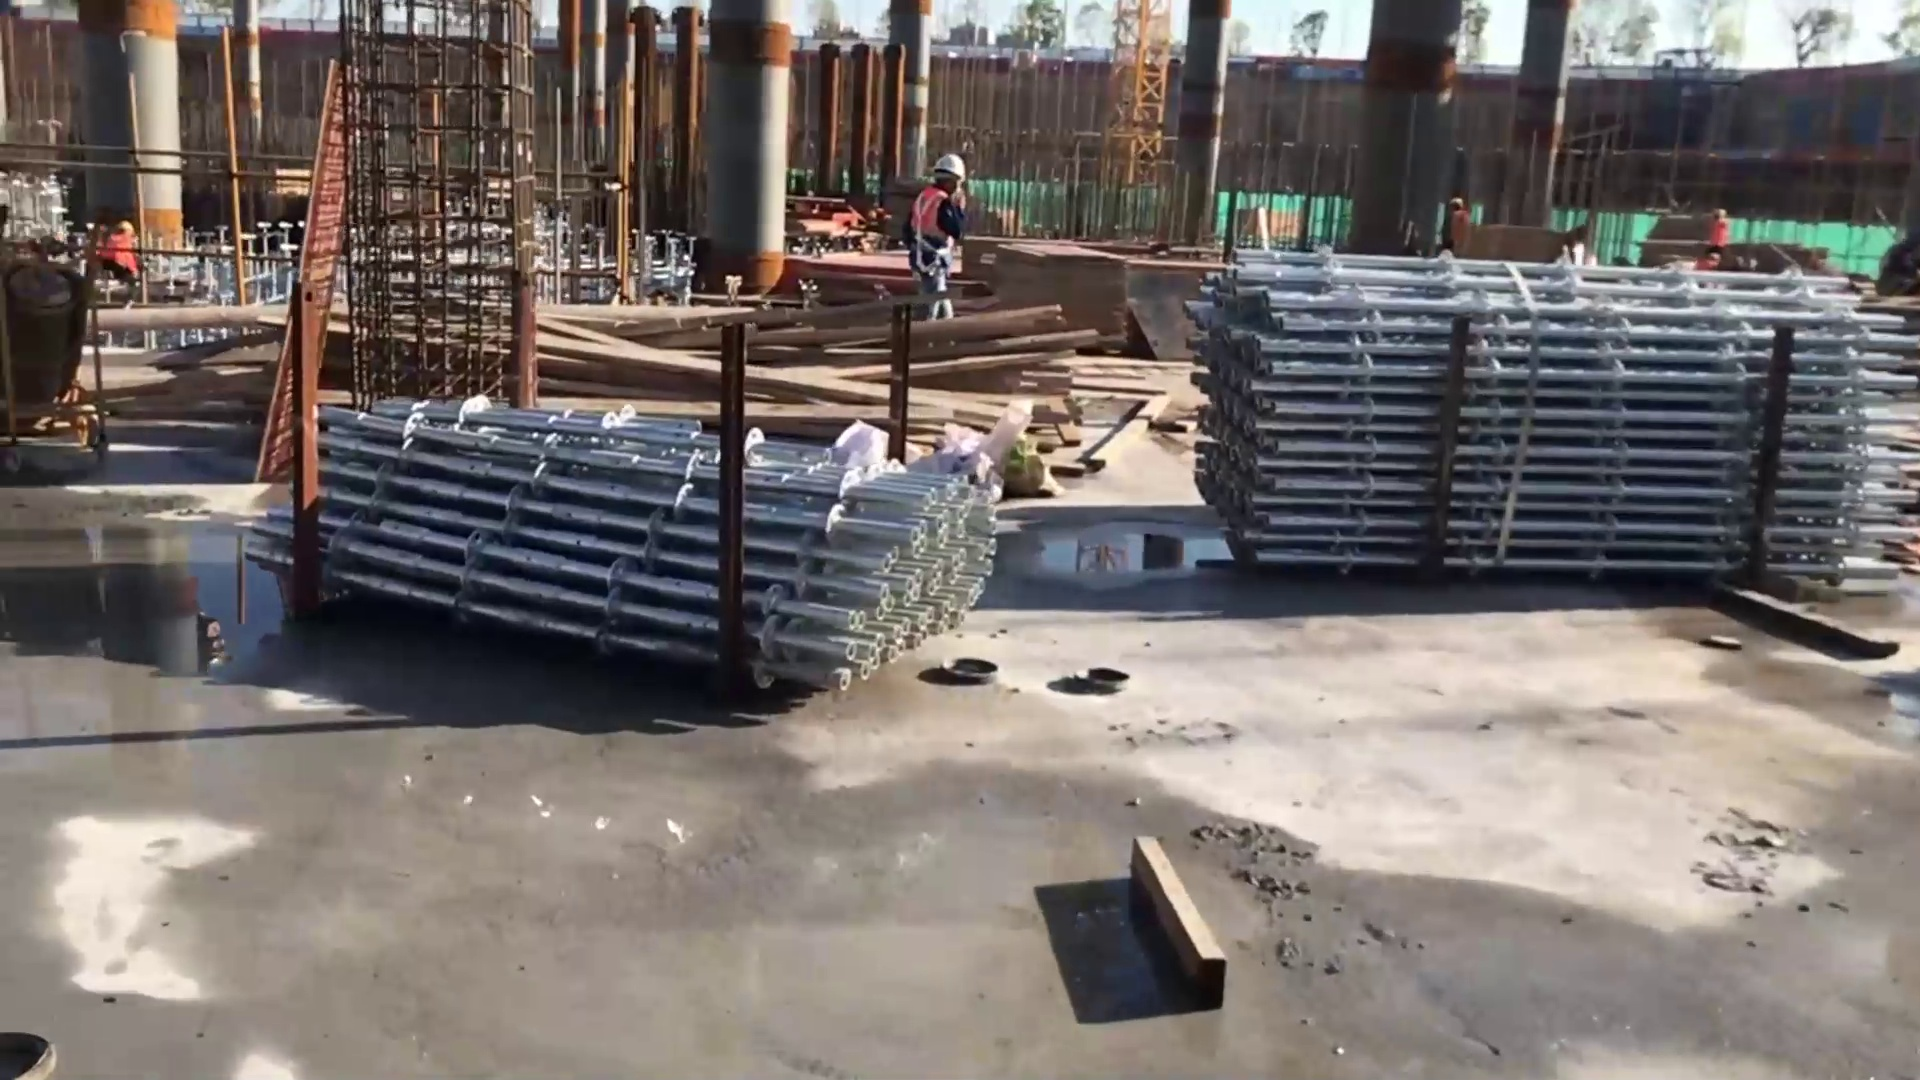helmet: (931, 153, 967, 181)
person: (911, 146, 974, 314)
scaffold: (1197, 247, 1920, 589), (306, 392, 1001, 697)
vest: (910, 188, 959, 284)
wood: (523, 279, 1138, 465)
